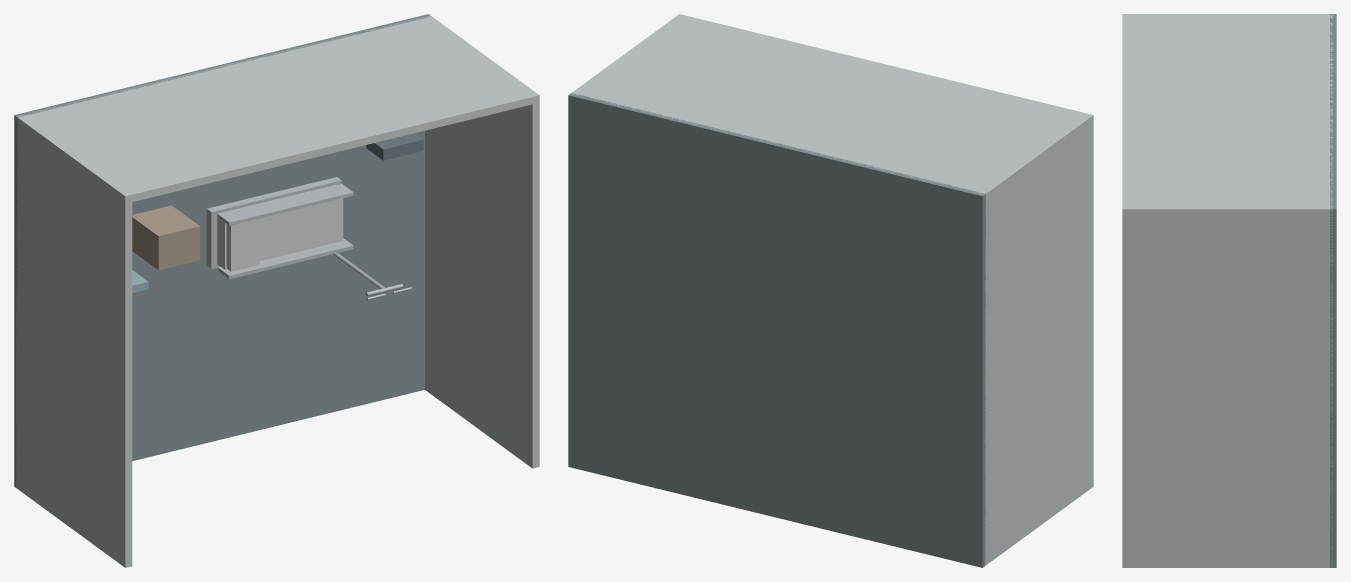
File: patient-room-high.glb
The picture shows the model from 3 angles, left to right: view 1: azimuth 30°, elevation 25°; view 2: azimuth 150°, elevation 25°; view 3: azimuth 270°, elevation 25°; orthographic projection. The views are drawn at different scales.
Parts seen in each view (by area): view 1: floor, wall_back, wall_left, wall_right, bed, bedside_table, bed_rail_right, bed_frame, pillow, bed_rail_left, monitor; view 2: floor, wall_back, wall_left; view 3: wall_right, wall_back, floor, wall_left.
Boxes of the visible parts, x1,y1,x2,y2 form: floor: (14,14,431,487); wall_back: (16,16,539,203); wall_left: (16,115,132,567); wall_right: (424,16,539,468); bed: (217,185,343,269); bedside_table: (132,205,199,270); bed_rail_right: (218,184,353,225); bed_frame: (206,177,341,268); pillow: (226,219,259,271); bed_rail_left: (218,238,353,279); monitor: (366,133,423,160); floor: (568,93,985,567); wall_back: (572,14,1093,201); wall_left: (978,114,1093,565); wall_right: (1122,206,1333,567); wall_back: (1122,14,1333,216); floor: (1330,14,1336,567); wall_left: (1122,14,1333,17).
Size of the model in its own units: 7 by 6 by 3.25.
